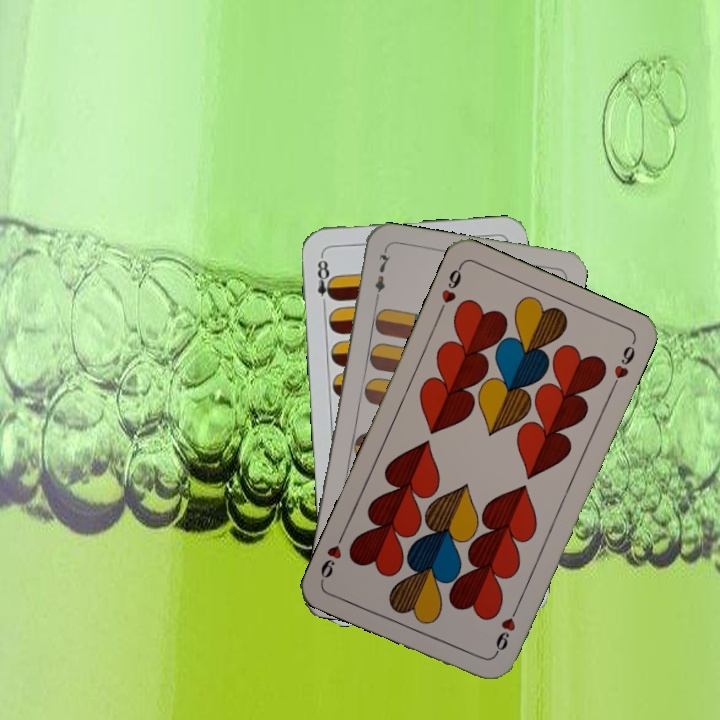E7: (370, 247, 393, 306)
E8: (313, 251, 337, 311)
H9: (489, 603, 521, 659), (434, 261, 465, 317)
